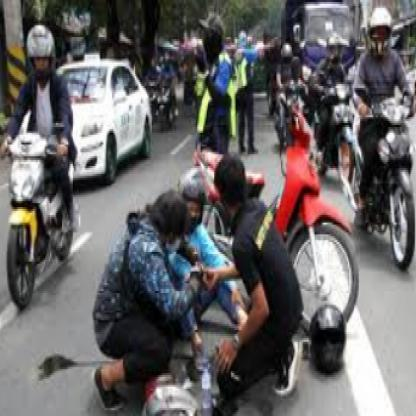helmet: (26, 24, 56, 83), (180, 168, 207, 226), (368, 7, 393, 57), (326, 33, 344, 66)
nohelmet: (212, 152, 248, 219)
